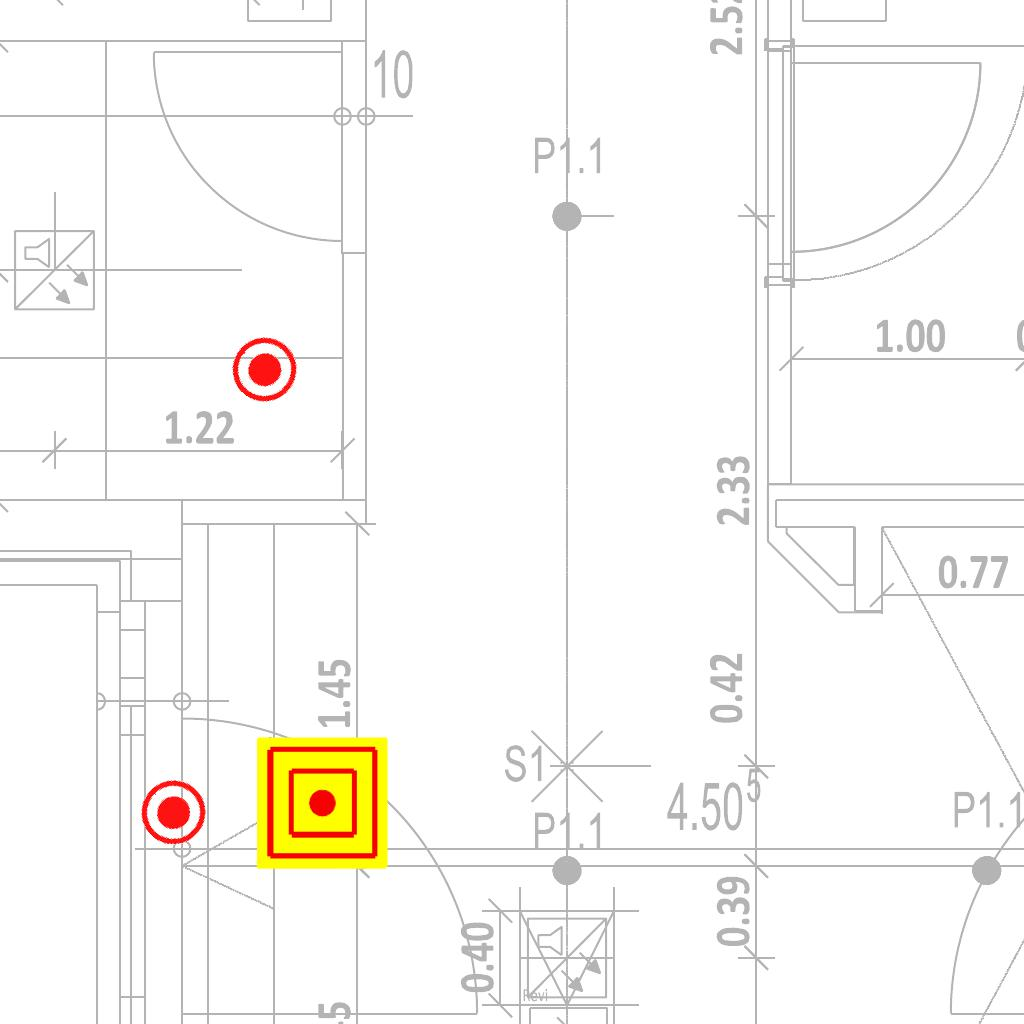NAM-Nichtautomatischer_Melder: (256, 737, 388, 869)
Taster: (128, 765, 222, 859), (219, 322, 313, 416)
